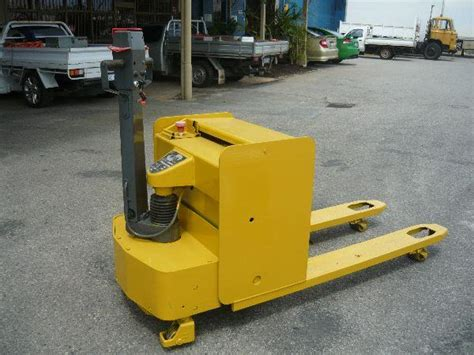Pallet Jack: (98, 26, 448, 347)
